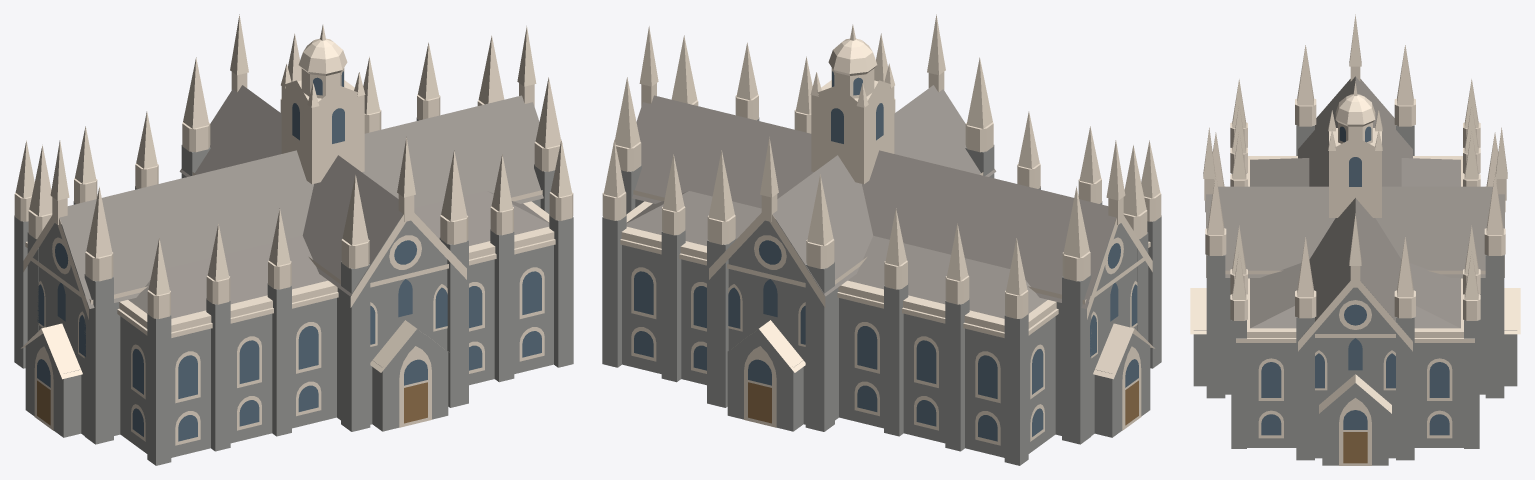
File: slc-assembly-hall.glb
3 renders of one model, left to right at view 1: azimuth 30°, elevation 25°; view 2: azimuth 150°, elevation 25°; view 3: azimuth 270°, elevation 25°, orthographic. The views are drawn at different scales.
Parts seen in each view (by area): view 1: Assembly Hall; view 2: Assembly Hall; view 3: Assembly Hall.
Part boxes in pixels (bbox=[...]): Assembly Hall: bbox=[14, 14, 573, 465]; Assembly Hall: bbox=[602, 14, 1161, 465]; Assembly Hall: bbox=[1190, 14, 1520, 465].
Bounding box in the file's own units: 46 × 29 × 29.8.
